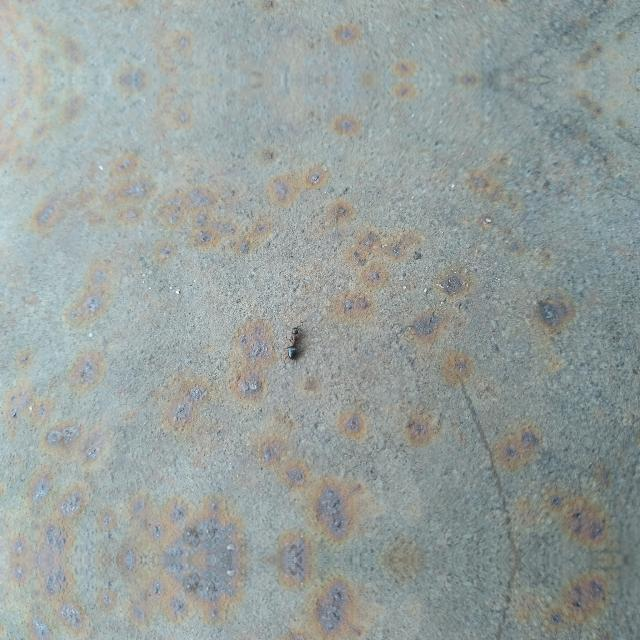Dolichoderus: (280, 322, 310, 364)
